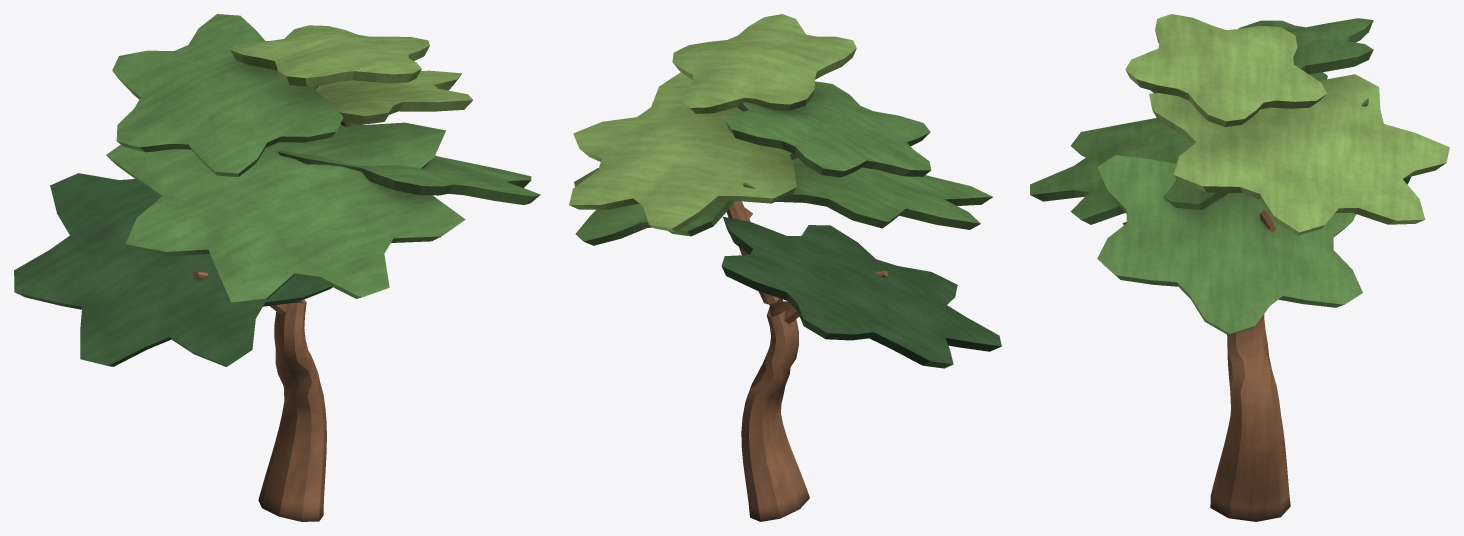
Rendered from hybrid_tree.glb.
The picture shows the model from 3 angles, left to right: view 1: azimuth 30°, elevation 25°; view 2: azimuth 150°, elevation 25°; view 3: azimuth 270°, elevation 25°; orthographic projection. The views are drawn at different scales.
Parts seen in each view (by area): view 1: Tree; view 2: Tree; view 3: Tree.
Part boxes in pixels (x1=…): Tree: x1=14, y1=14, x2=540, y2=521; Tree: x1=569, y1=14, x2=1001, y2=521; Tree: x1=1030, y1=14, x2=1449, y2=521.
Size of the model in its own units: 2.75 by 2.72 by 2.18.
Materials: 1 (1 with a texture image).
